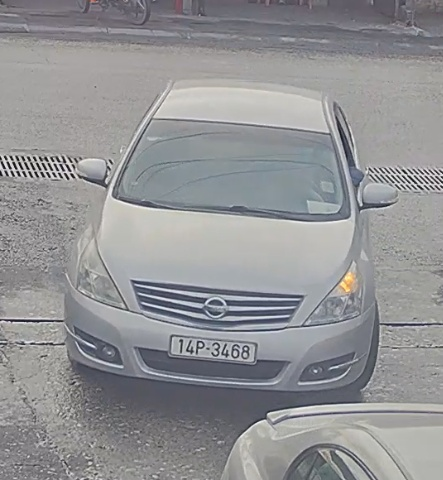vehicle plate: (164, 330, 262, 366)
